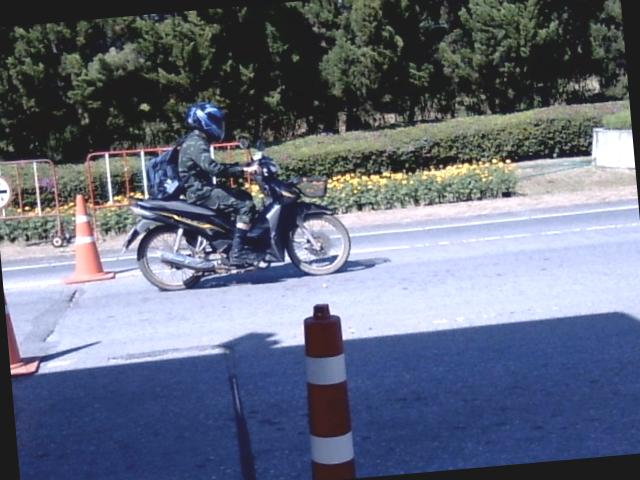helmet: (185, 101, 224, 139)
motor: (121, 141, 349, 289)
person: (178, 101, 259, 265)
